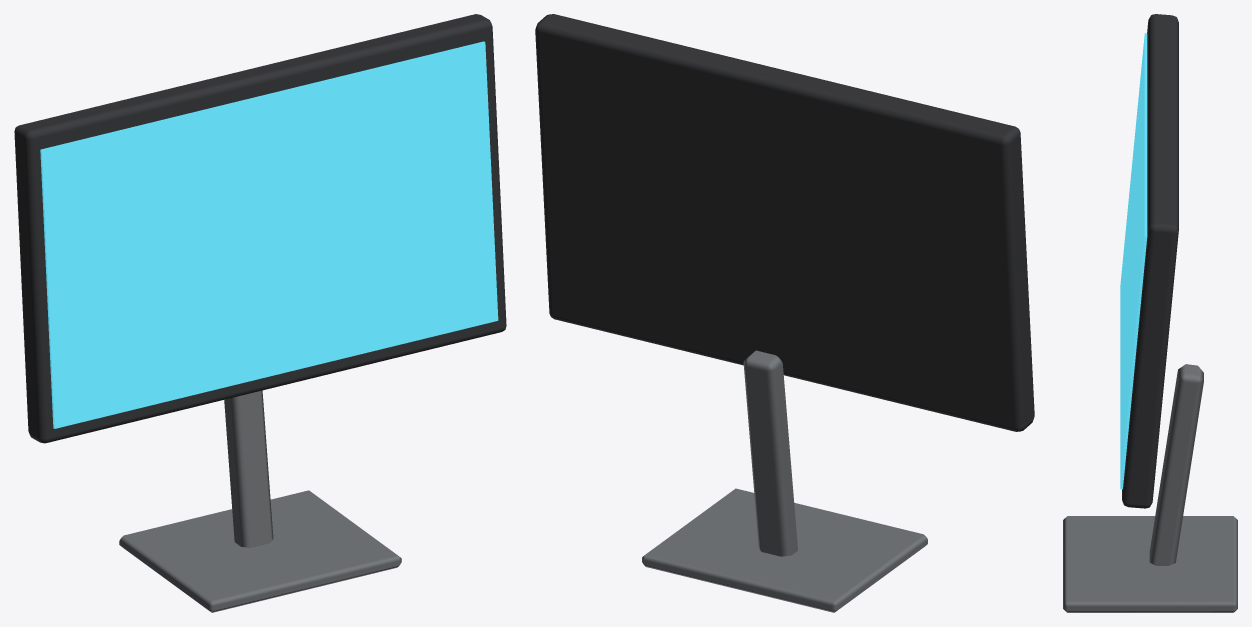
Rendered from monitor.glb.
3 views of the same model, side by side, from view 1: azimuth 30°, elevation 25°; view 2: azimuth 150°, elevation 25°; view 3: azimuth 270°, elevation 25° (orthographic). The views are drawn at different scales.
Parts seen in each view (by area): view 1: monitor; view 2: monitor; view 3: monitor.
Part boxes in pixels (x1,y1,x2,y2): monitor: (14, 14, 506, 612); monitor: (535, 14, 1034, 612); monitor: (1063, 14, 1237, 612).
Bounding box in the file's own units: 0.58 × 0.5701 × 0.2.
